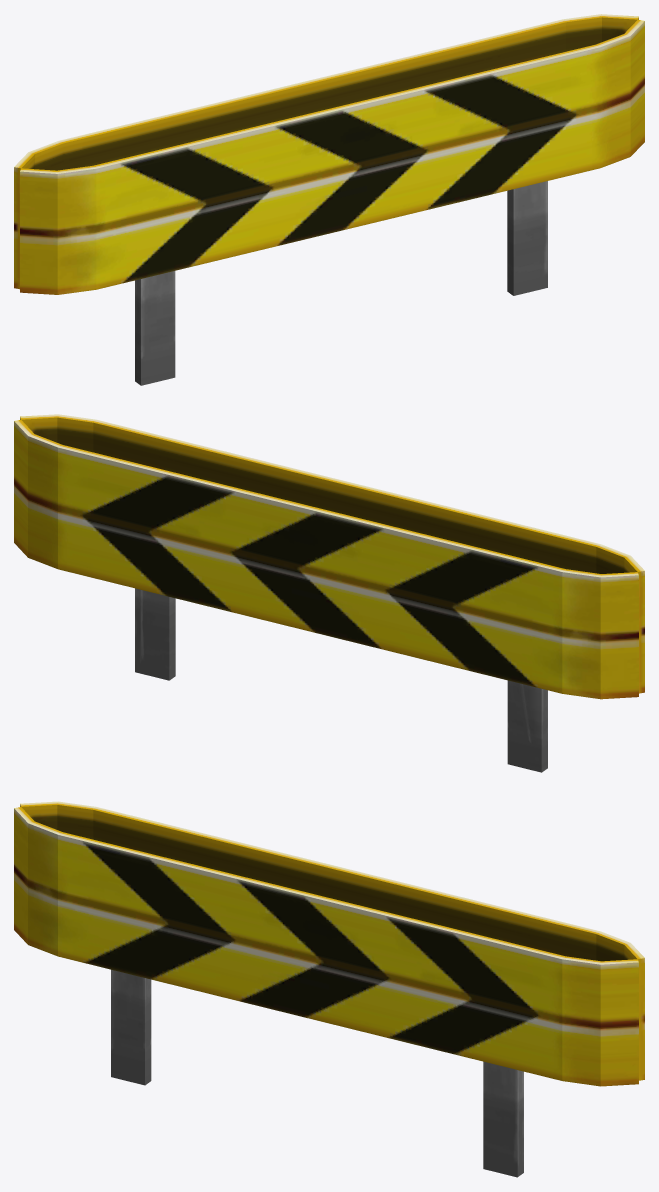
Rendered from Rallings.fbx.
3 renders of one model, top to bottom at view 1: azimuth 30°, elevation 25°; view 2: azimuth 150°, elevation 25°; view 3: azimuth 330°, elevation 25°, orthographic.
Visible parts, largest first — view 1: Ralling; view 2: Ralling; view 3: Ralling.
Part boxes in pixels (x1,y1,x2,y2): Ralling: (14,14,644,385); Ralling: (14,414,644,772); Ralling: (14,801,644,1177).
Size of the model in its own units: 335 by 119 by 36.8.
